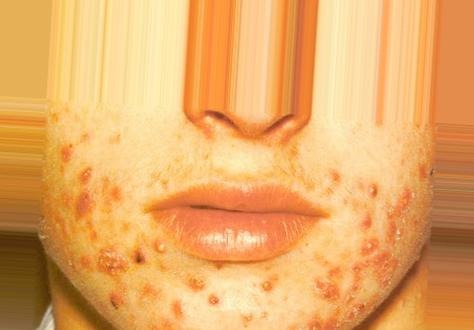Acne: (42, 110, 433, 326)
